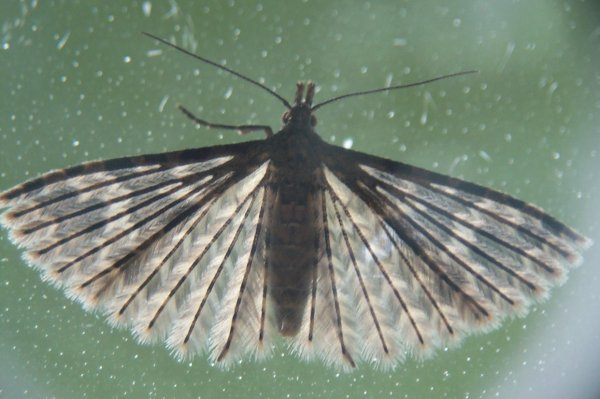Alucitidae: (4, 21, 594, 369)
moth: (6, 23, 596, 371)
